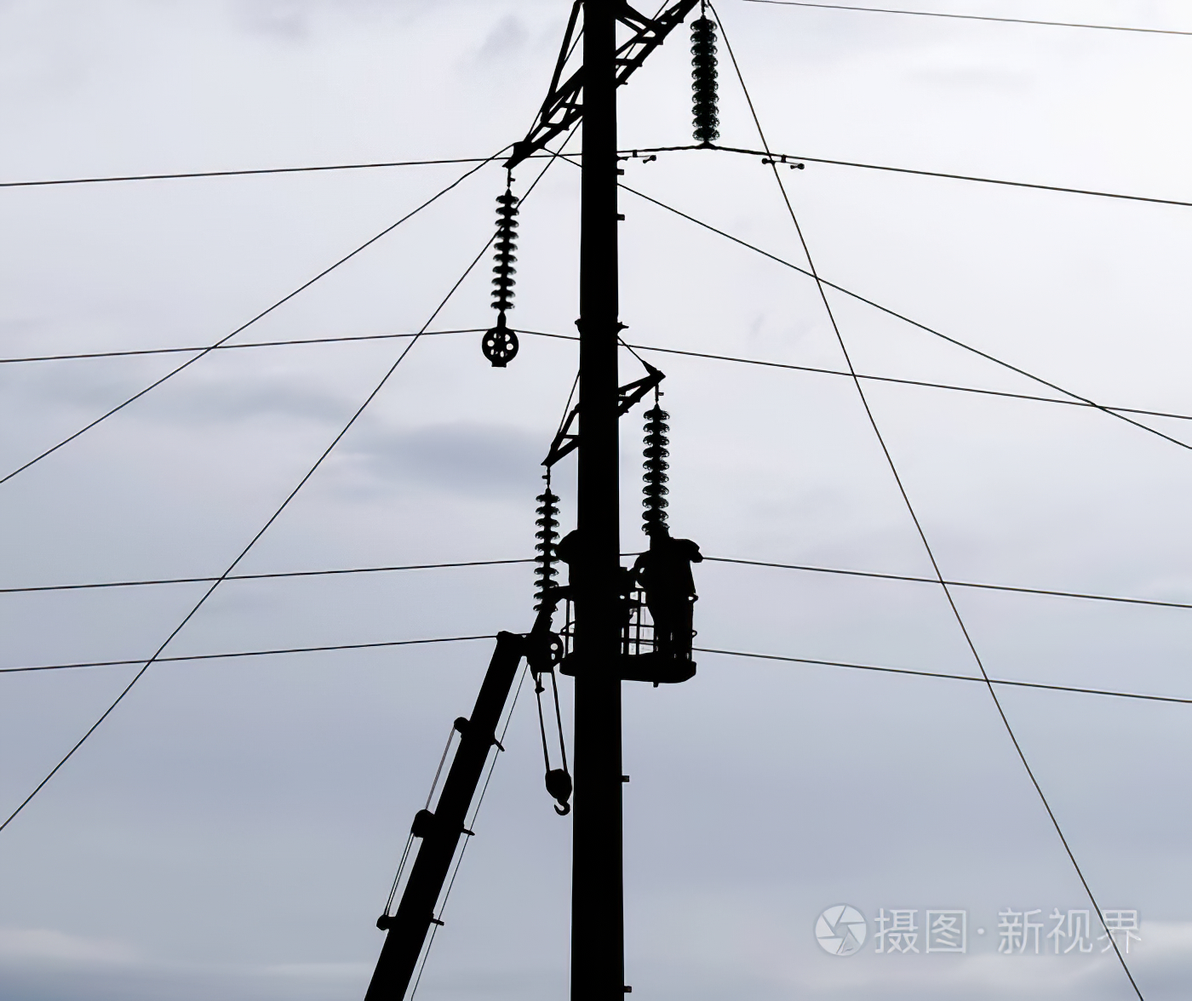insulator: (638, 403, 675, 535), (684, 17, 723, 141), (530, 489, 561, 611), (490, 188, 519, 313)
